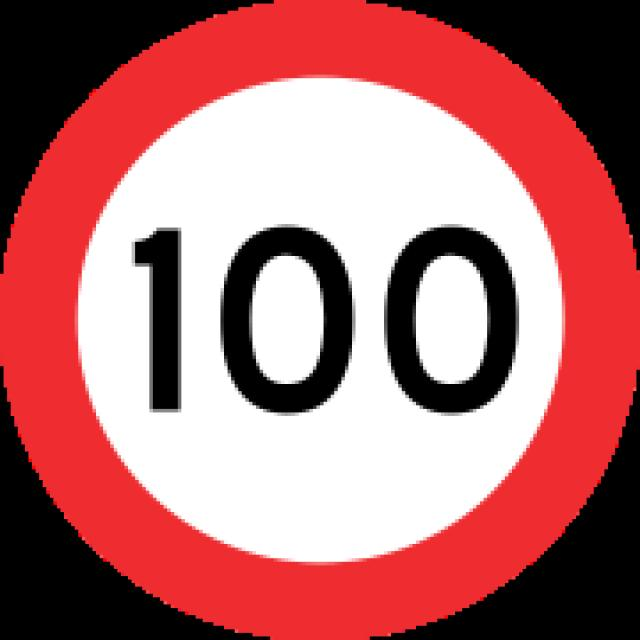Speed Limit -100-: (114, 206, 537, 432)
